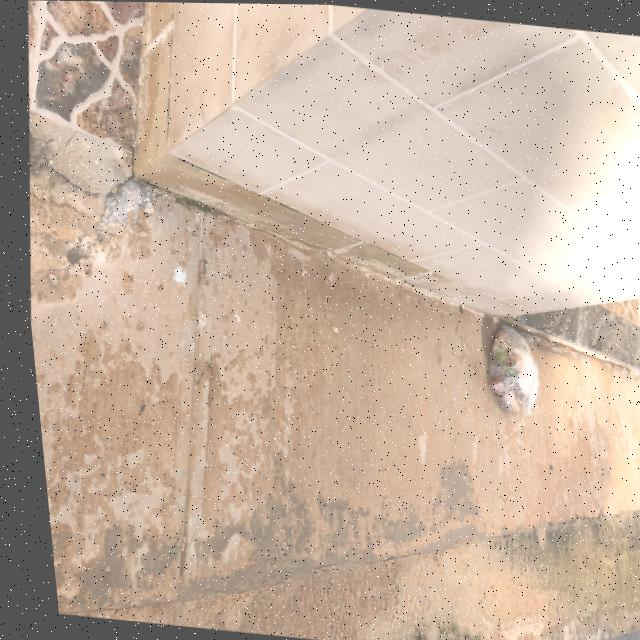Organic Waste -White Bag-: (461, 319, 552, 430)
